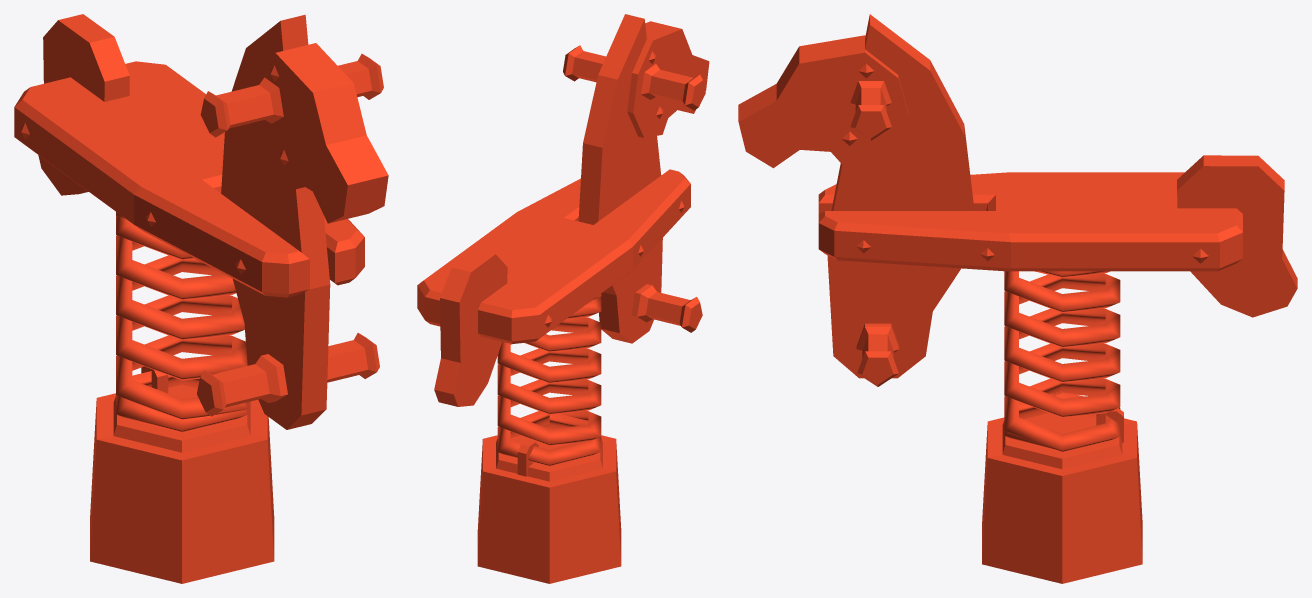
The model's file is SM_Horse_Playground_City.fbx.
3 views of the same model, side by side, from view 1: azimuth 30°, elevation 25°; view 2: azimuth 150°, elevation 25°; view 3: azimuth 270°, elevation 25° (orthographic). The views are drawn at different scales.
Parts seen in each view (by area): view 1: SM_Horse_Playground_City; view 2: SM_Horse_Playground_City; view 3: SM_Horse_Playground_City.
Part boxes in pixels (<box>): SM_Horse_Playground_City: <box>14,14,388,583</box>; SM_Horse_Playground_City: <box>417,14,709,583</box>; SM_Horse_Playground_City: <box>738,14,1297,583</box>.
Size of the model in its own units: 0.3805 by 1.19 by 1.15.
